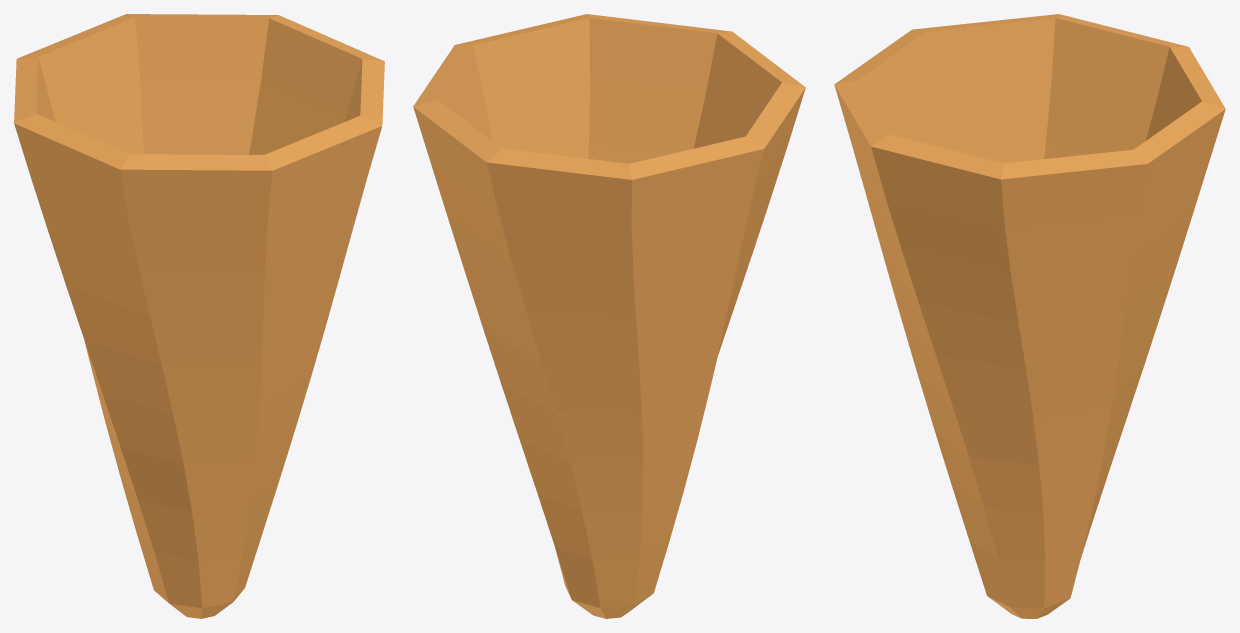
File: IceCream_Cone.glb
3 renders of one model, left to right at view 1: azimuth 30°, elevation 25°; view 2: azimuth 150°, elevation 25°; view 3: azimuth 270°, elevation 25°, orthographic.
Visible parts, largest first — view 1: IceCream_Cone; view 2: IceCream_Cone; view 3: IceCream_Cone.
Part boxes in pixels (bbox=[...]): IceCream_Cone: bbox=[14, 14, 384, 618]; IceCream_Cone: bbox=[413, 14, 805, 618]; IceCream_Cone: bbox=[834, 14, 1225, 618].
Bounding box in the file's own units: 55.24 × 81.04 × 55.24.
